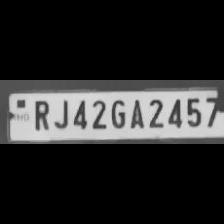2: (144, 96, 164, 130), (88, 97, 106, 131)
4: (70, 97, 89, 131), (164, 96, 182, 128)
5: (184, 94, 202, 128)
7: (202, 94, 222, 128)
A: (126, 96, 144, 130)
G: (108, 97, 126, 129)
J: (52, 97, 70, 131)
R: (28, 96, 52, 132)
